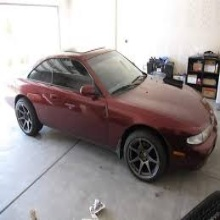no damage: (4, 45, 217, 183)
